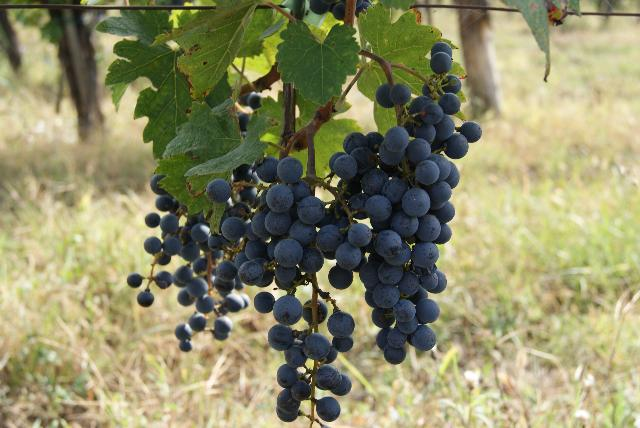grapes: (335, 74, 481, 364), (244, 150, 375, 422)
